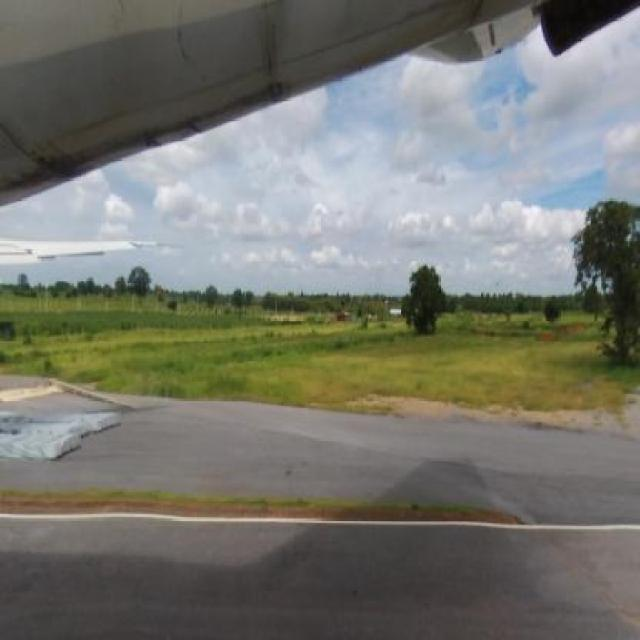Rust: (0, 111, 112, 208), (132, 85, 237, 161), (240, 2, 294, 115), (160, 0, 202, 74), (105, 1, 138, 59)
